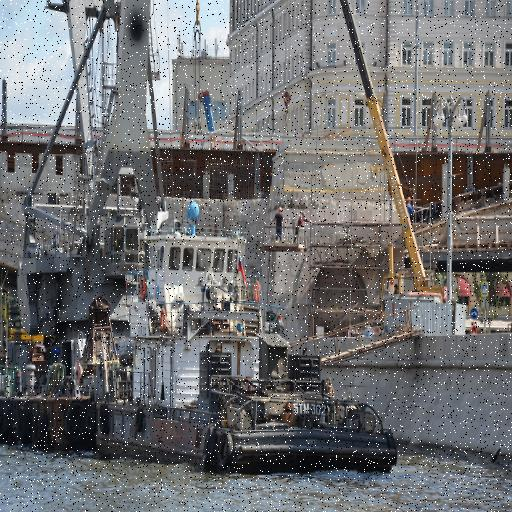tugboat: (91, 201, 402, 489)
